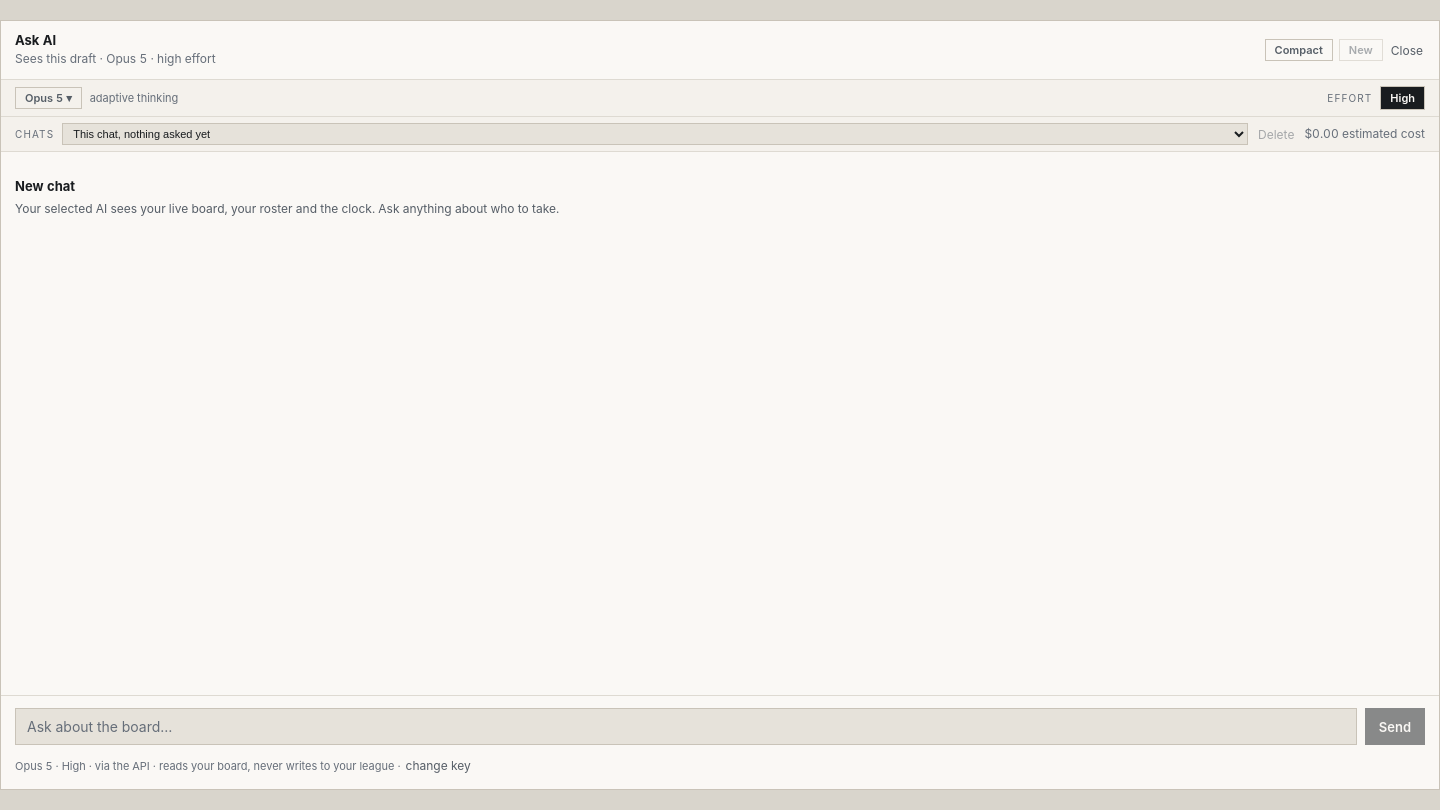
Test: the thread › attributes every entry to the device that wrote it, with what it cost
The width and height of the screenshot is (1440, 810).
Step 1. Select "Shared with devices" in the dropdown named "Saved chats" → x=655, y=134, box [62,123,1248,145]
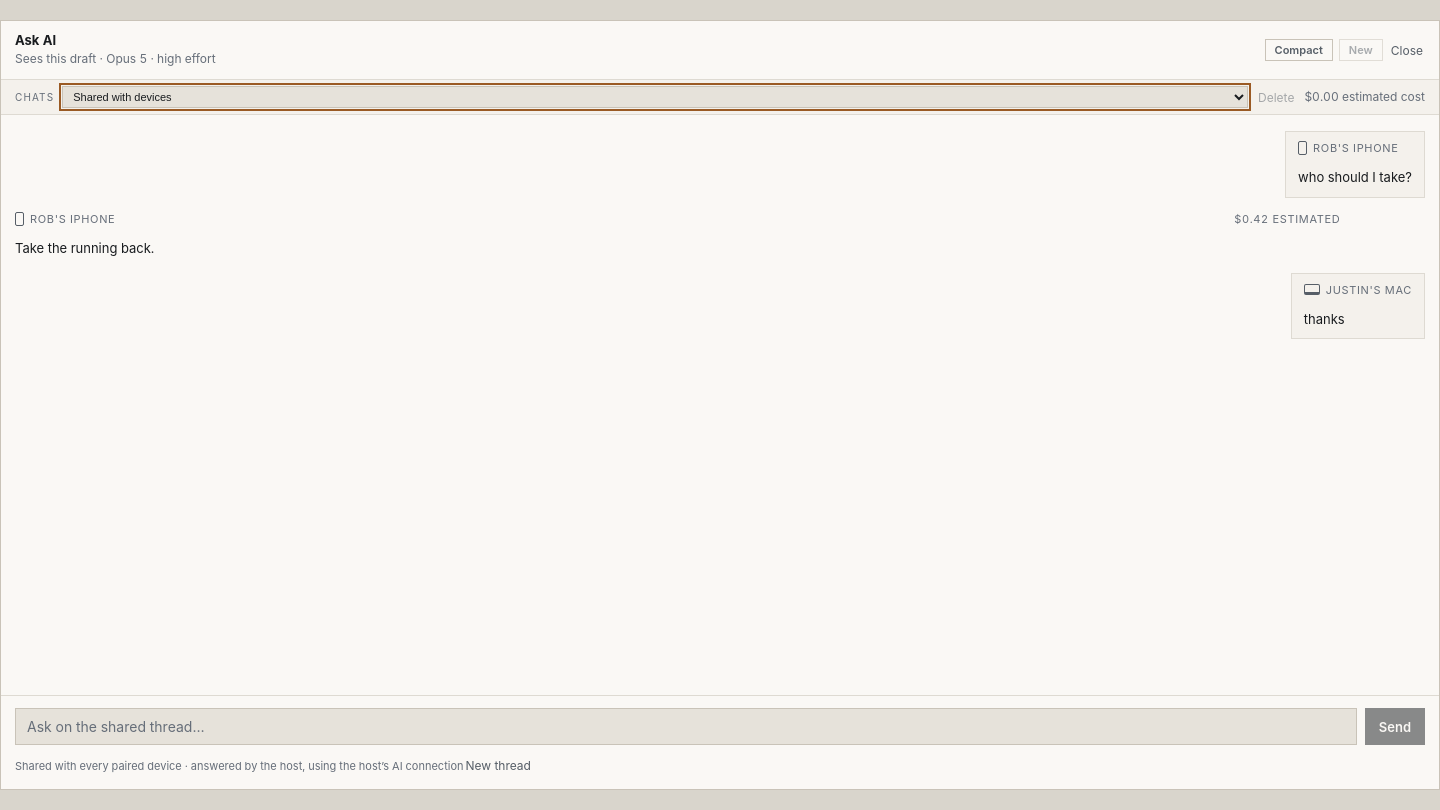
Check: the text "Take the running back." is shown, box [15,240,154,256]
Check: the text "Rob's iPhone" is shown 2 times, box [1298,141,1412,155]; [15,212,1340,226]
Check: the text "Justin's Mac" is shown, box [1304,283,1412,297]
